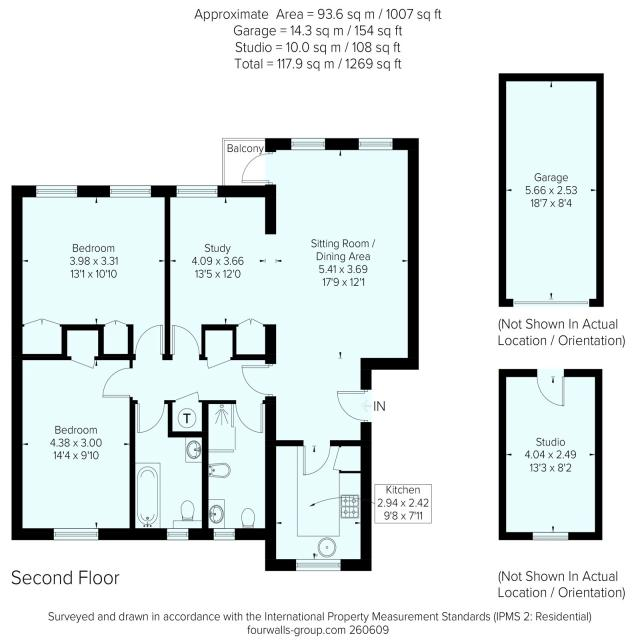DOOR: (241, 362, 276, 398), (336, 388, 372, 423), (241, 150, 276, 186), (302, 440, 331, 476), (135, 324, 164, 360), (171, 324, 200, 360), (102, 367, 133, 399), (235, 400, 264, 434), (136, 400, 165, 434)
ROOM: (11, 185, 171, 360), (11, 354, 135, 540)
WINDOW: (295, 558, 341, 572), (53, 527, 99, 541), (175, 184, 219, 198), (35, 185, 78, 198), (109, 185, 151, 198), (357, 137, 393, 151), (290, 137, 326, 151), (213, 528, 236, 541), (166, 528, 189, 541)
